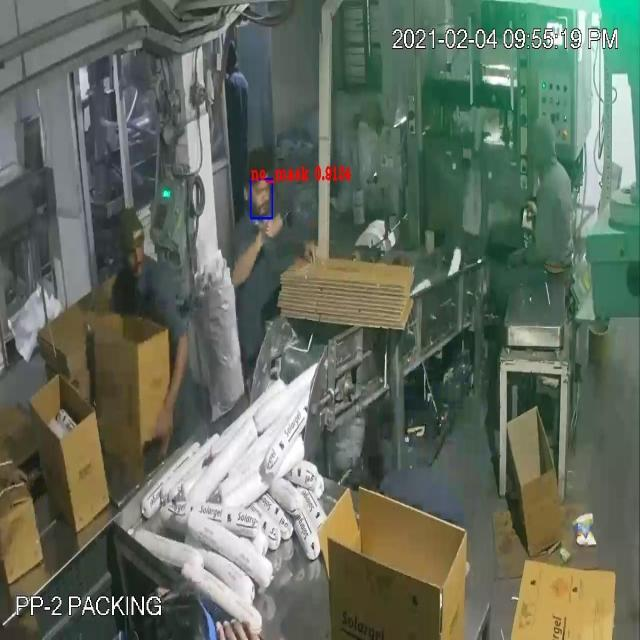No_Gloves: (44, 82, 257, 394)
